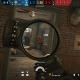Character: (38, 37, 44, 48)
